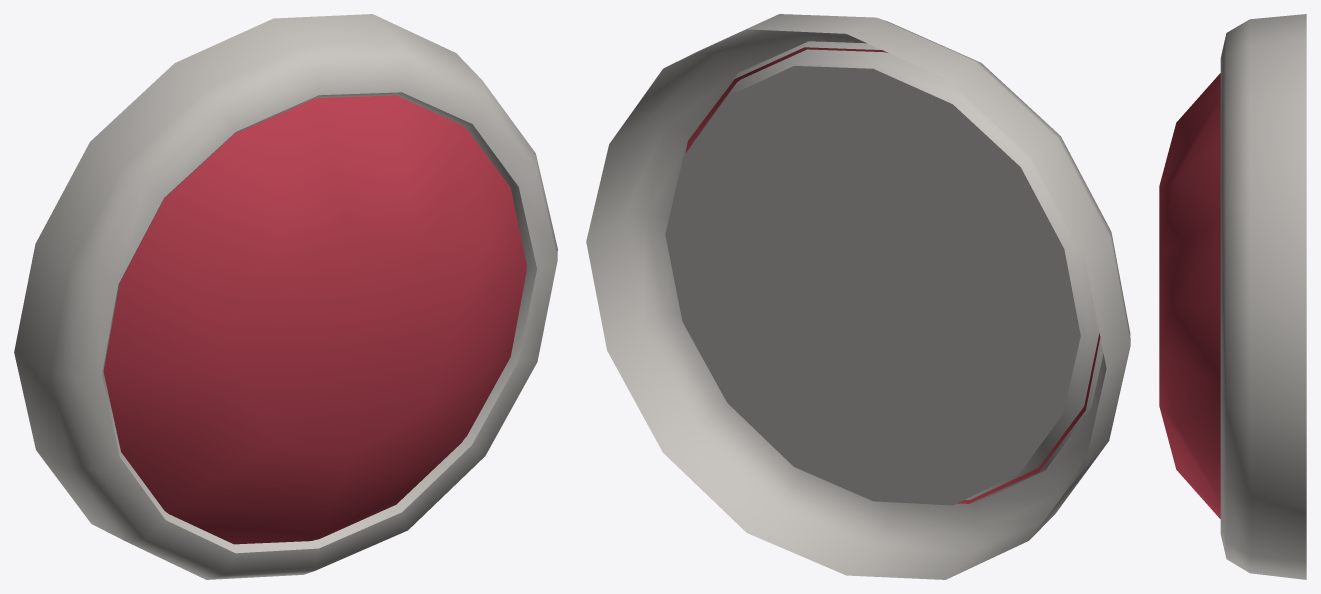
Rendered from gem_round.glb.
The picture shows the model from 3 angles, left to right: view 1: azimuth 30°, elevation 25°; view 2: azimuth 150°, elevation 25°; view 3: azimuth 270°, elevation 25°; orthographic projection. The views are drawn at different scales.
Parts seen in each view (by area): view 1: gem_round; view 2: gem_round; view 3: gem_round.
Part boxes in pixels (x1,y1,x2,y2): gem_round: [14, 14, 557, 579]; gem_round: [586, 14, 1130, 579]; gem_round: [1159, 14, 1306, 579].
Size of the model in its own units: 0.0145 by 0.0144 by 0.00376.
